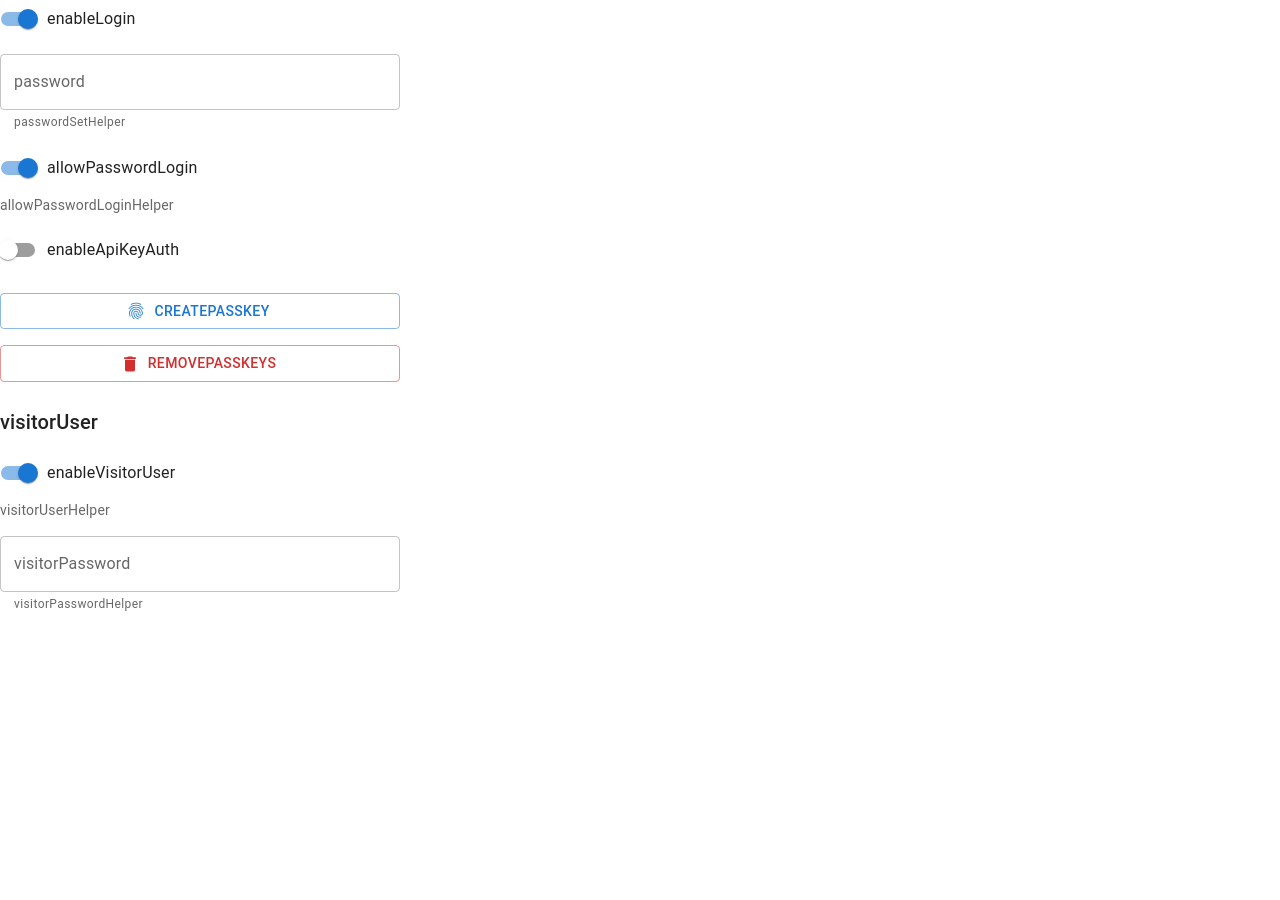
Scenario: SecuritySettings › removes passkeys after confirmation and shows a success alert
Click the button "removePasskeys": [200, 364] box [0,345,400,382]
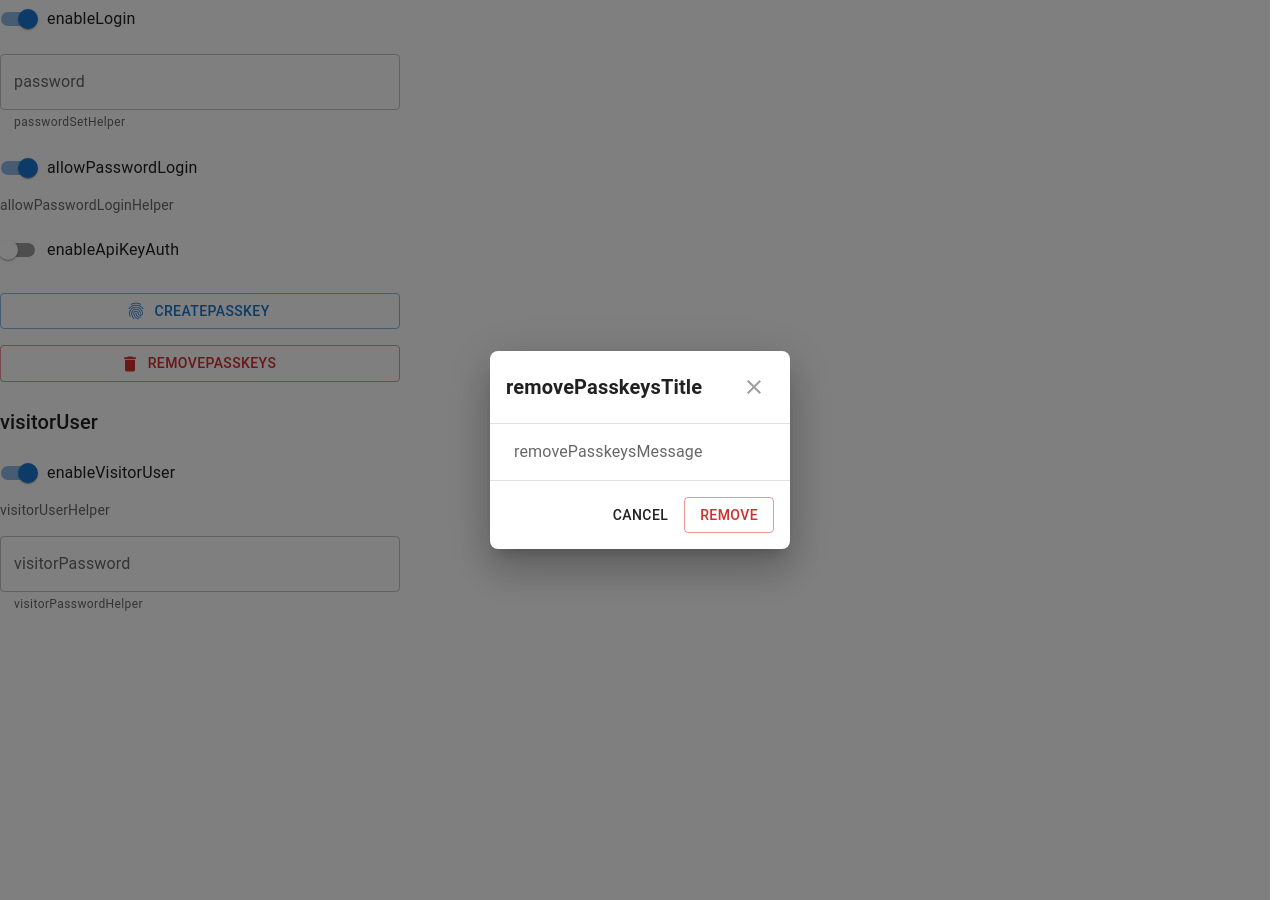
Click the button "remove": [729, 515] box [684,497,774,533]
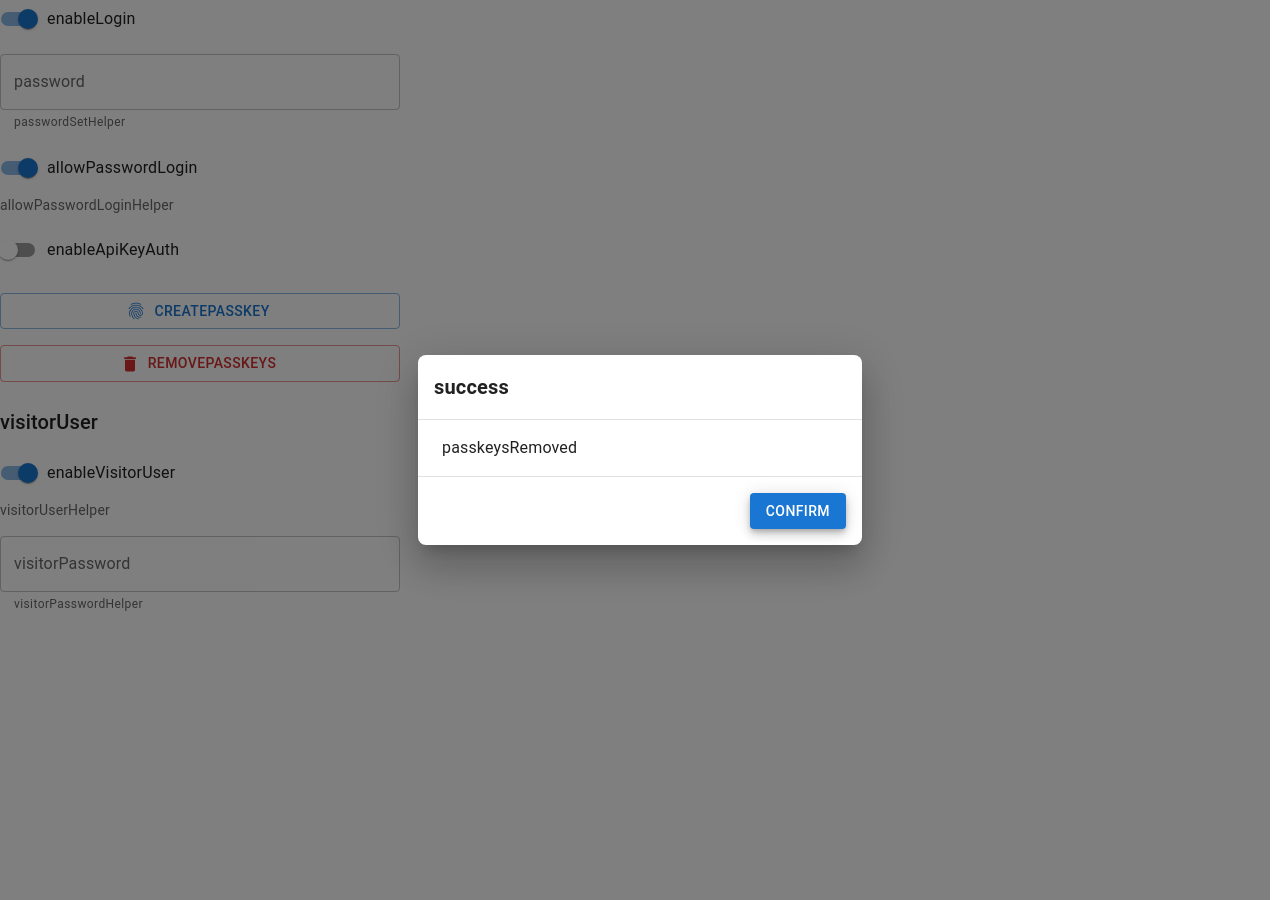
Check: the text "passkeysRemoved" is shown, box [442,438,577,457]
